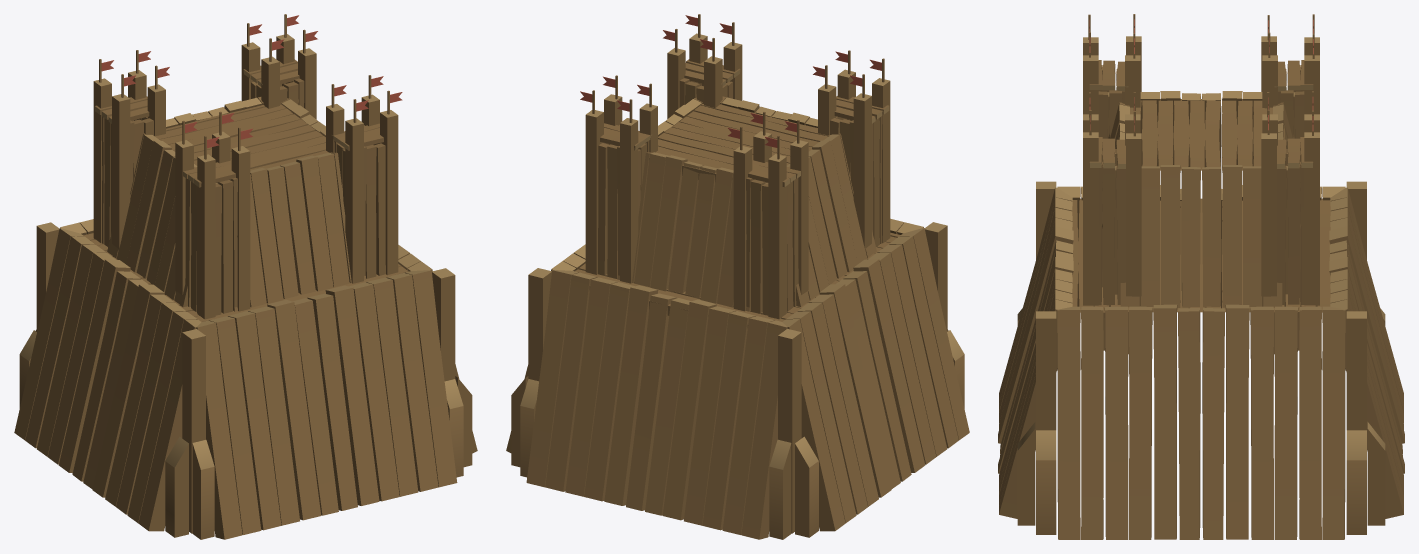
File: Wooden Monument.glb
3 renders of one model, left to right at view 1: azimuth 30°, elevation 25°; view 2: azimuth 150°, elevation 25°; view 3: azimuth 270°, elevation 25°, orthographic. The views are drawn at different scales.
Parts seen in each view (by area): view 1: Wonder_FirstAge_Level1; view 2: Wonder_FirstAge_Level1; view 3: Wonder_FirstAge_Level1.
Boxes of the visible parts, <box> form: Wonder_FirstAge_Level1: <box>14,14,477,539</box>; Wonder_FirstAge_Level1: <box>506,14,969,539</box>; Wonder_FirstAge_Level1: <box>998,14,1404,539</box>.
Size of the model in its own units: 1.26 by 1.35 by 1.26.
